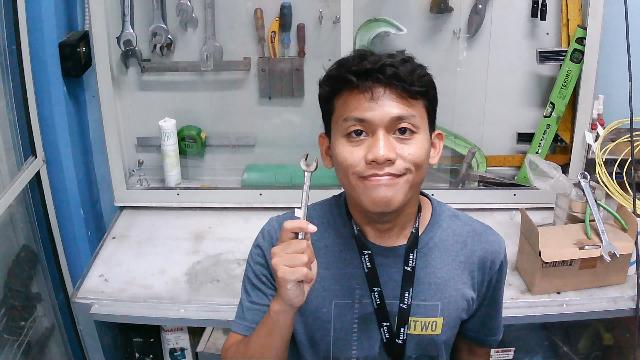kunci_pass_13: (282, 144, 334, 281)
